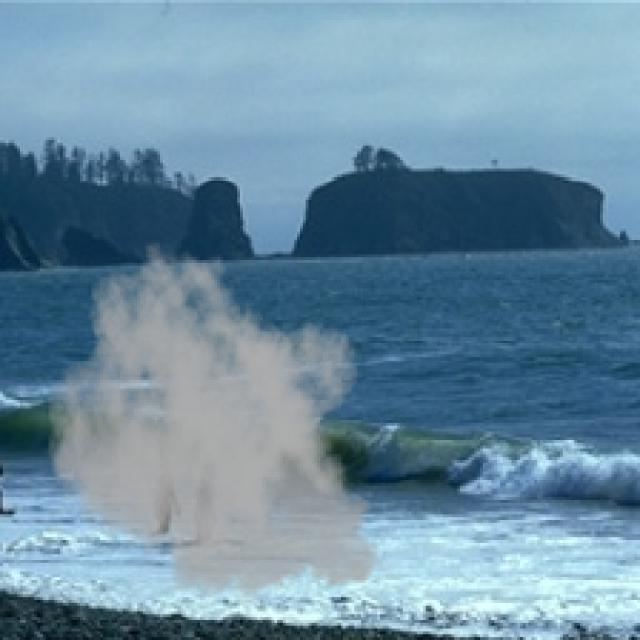Smoke: (46, 240, 394, 609)
